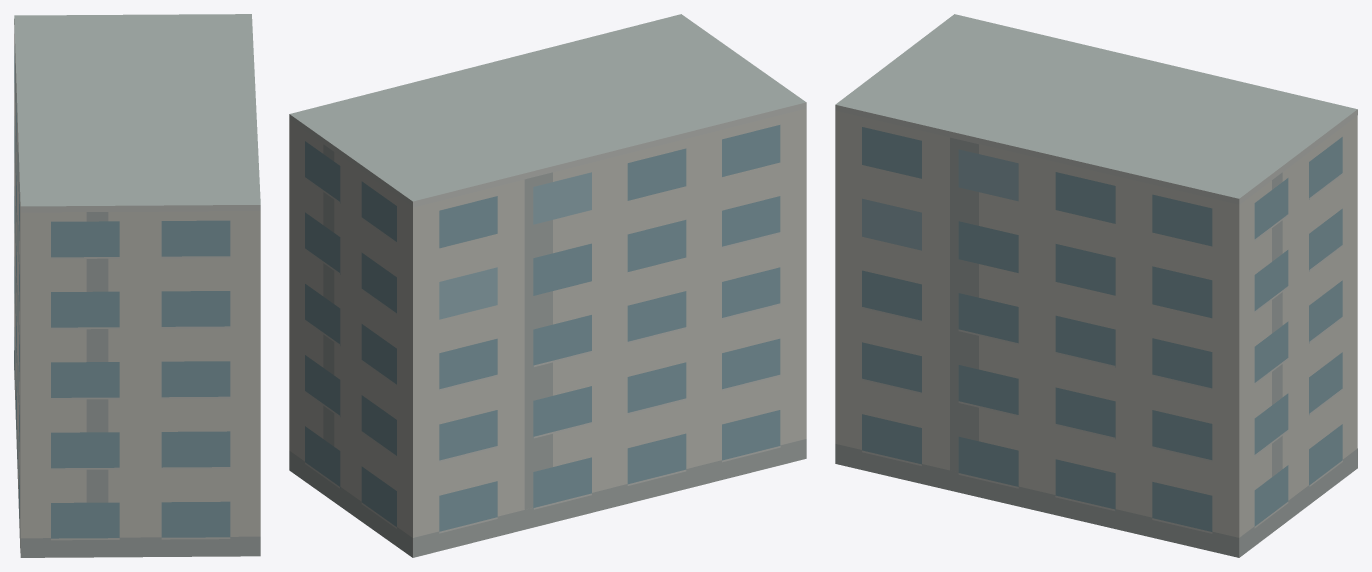
The model's file is survey-upis-32869805.glb.
3 views of the same model, side by side, from view 1: azimuth 30°, elevation 25°; view 2: azimuth 150°, elevation 25°; view 3: azimuth 270°, elevation 25° (orthographic). The views are drawn at different scales.
Parts seen in each view (by area): view 1: survey-upis-32869805.tmp; view 2: survey-upis-32869805.tmp; view 3: survey-upis-32869805.tmp.
Boxes of the visible parts, x1,y1,x2,y2 form: survey-upis-32869805.tmp: (14,14,260,557); survey-upis-32869805.tmp: (289,14,806,557); survey-upis-32869805.tmp: (835,14,1357,557).
Bounding box in the file's own units: 15.79 × 14.3 × 18.87.
